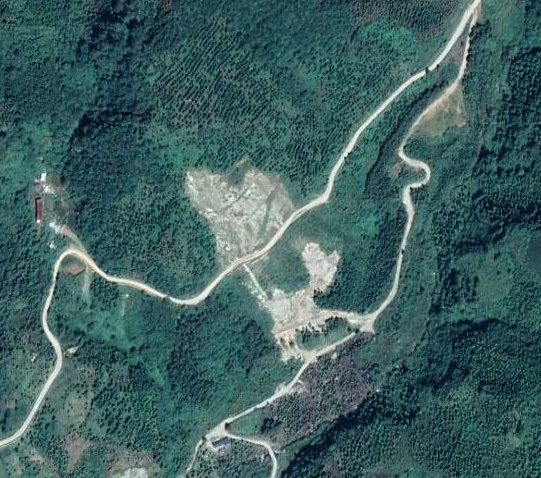slope: (265, 240, 379, 362), (187, 168, 292, 262), (416, 82, 471, 140)
